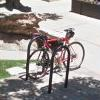Bicycle: (19, 26, 94, 80)
